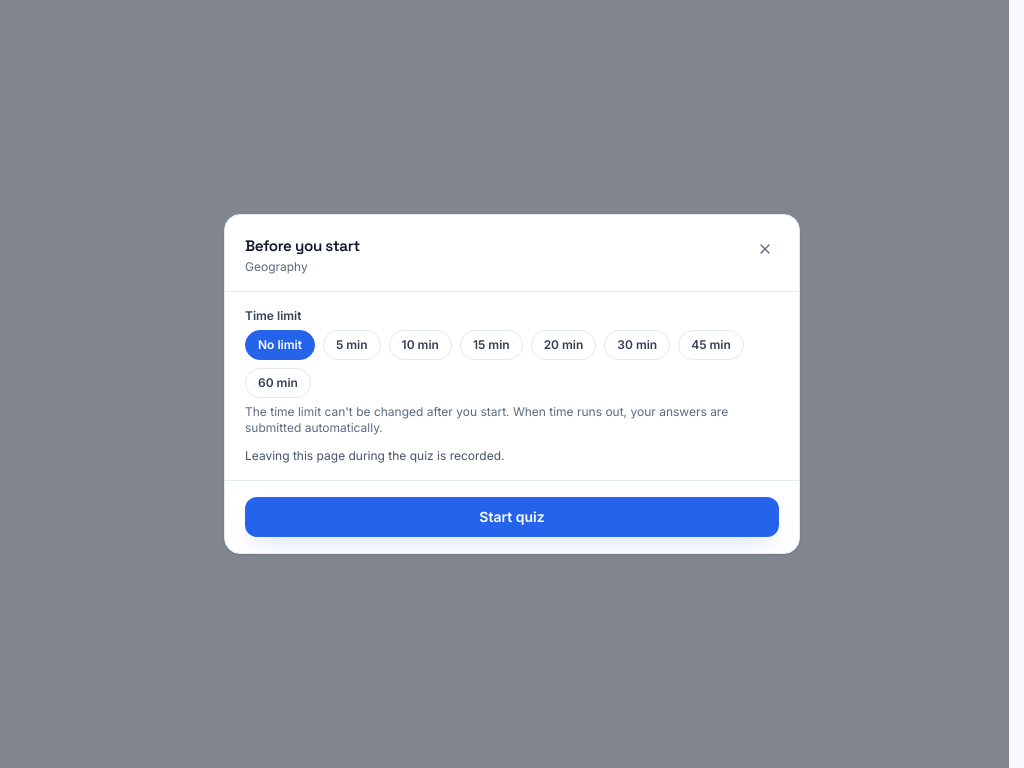
Test: QuizRunner — time limit picker › asks for a time limit before starting a timed quiz, then starts with the chosen limit
Check: the text "Leaving this page during the quiz is recorded." is shown, box [245,448,504,463]
Click the radio button labelled "10 min". click: (420, 345)
box: [389,330,452,360]
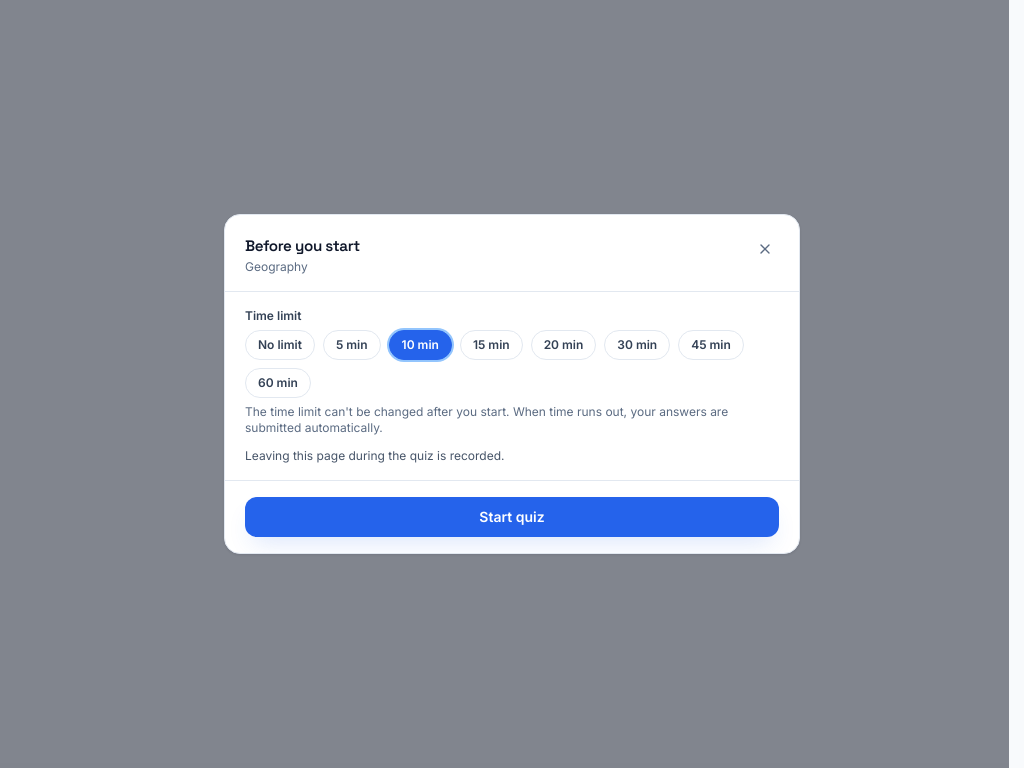
Click the button "Start quiz". click: (512, 517)
box: [245,497,779,537]
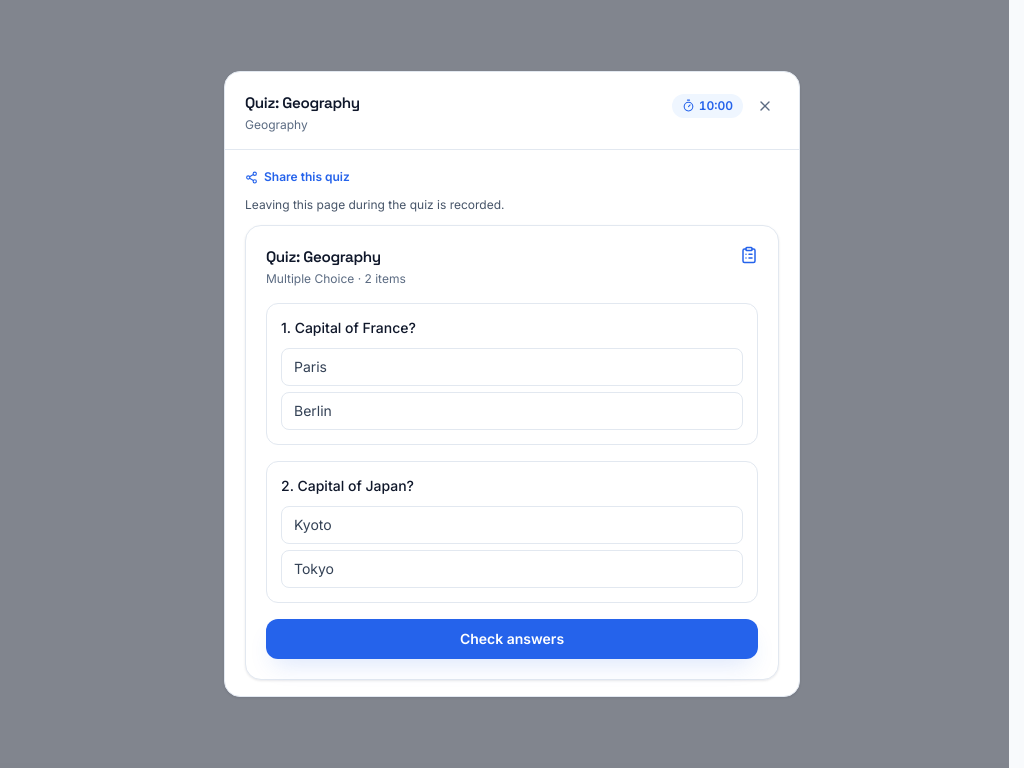
Check: the text "1. Capital of France?" is shown, box [281,319,416,336]
Check: the element showing "10:00" is shown, box [672,94,743,118]
